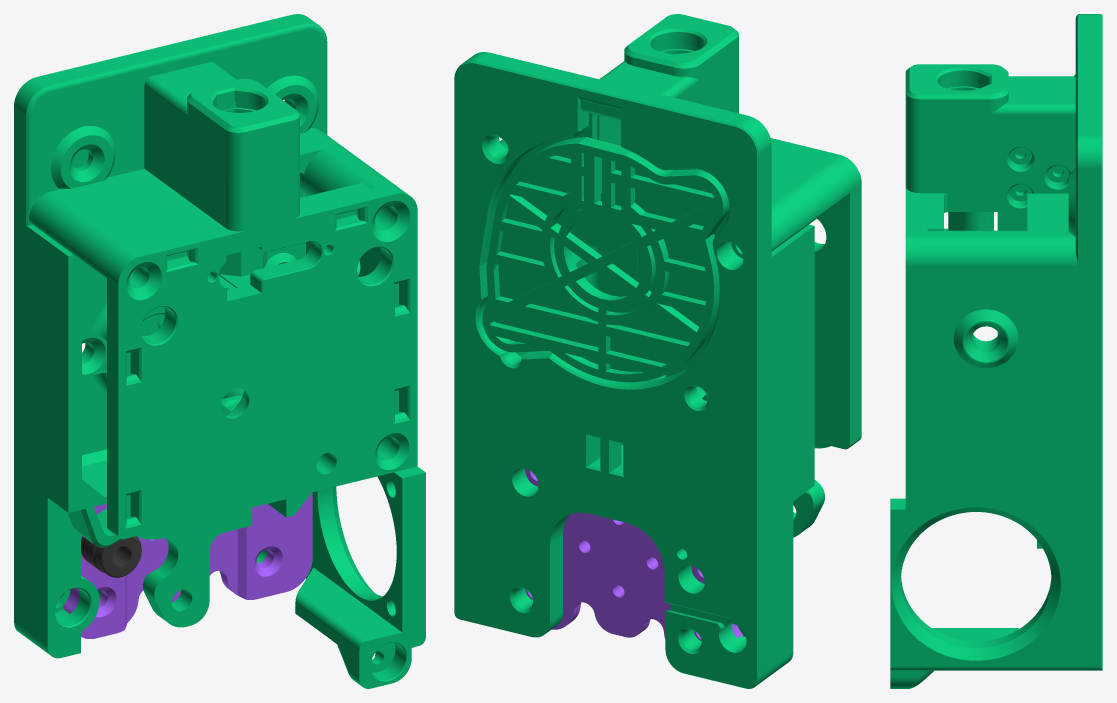
The model's file is Body for H2D left heating assembly.glb.
3 views of the same model, side by side, from view 1: azimuth 30°, elevation 25°; view 2: azimuth 150°, elevation 25°; view 3: azimuth 270°, elevation 25° (orthographic). The views are drawn at different scales.
Bounding box in the file's own units: 0.0544 × 0.0984 × 0.034.
